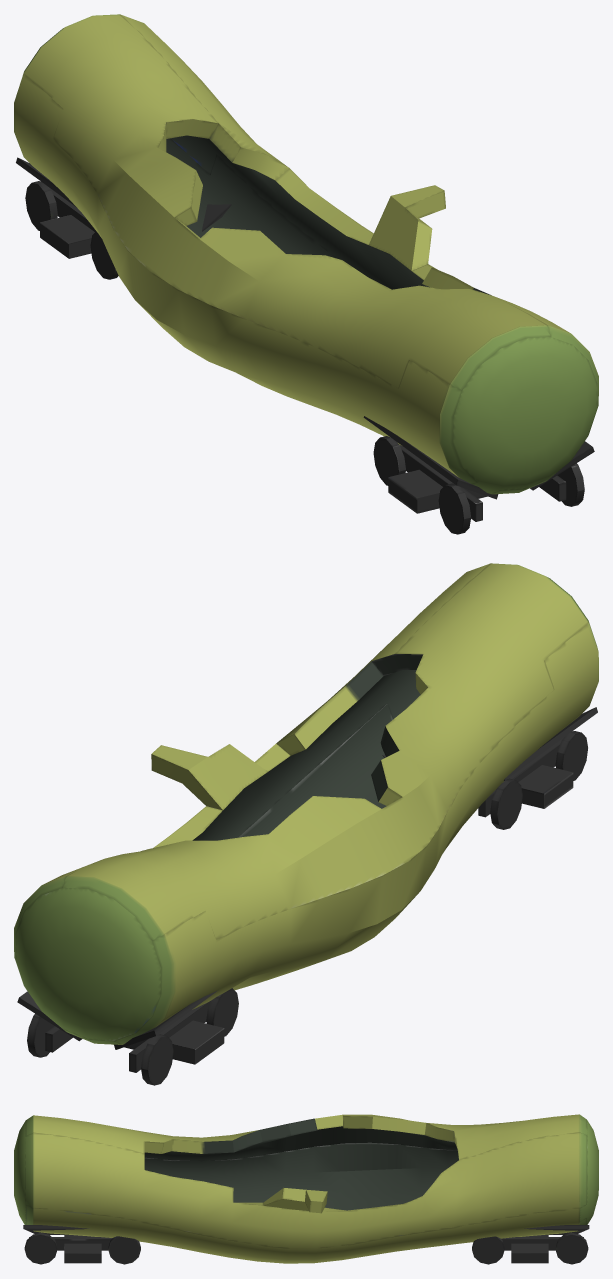
The model's file is cylinder-exploded.fbx.
The picture shows the model from 3 angles, top to bottom: view 1: azimuth 30°, elevation 25°; view 2: azimuth 150°, elevation 25°; view 3: azimuth 270°, elevation 25°; orthographic projection. The views are drawn at different scales.
Visible parts, largest first — view 1: wagon-cylinder-exploded; view 2: wagon-cylinder-exploded; view 3: wagon-cylinder-exploded.
Part boxes in pixels (box(x1,y1,x2,y2)): wagon-cylinder-exploded: box(14, 14, 598, 534); wagon-cylinder-exploded: box(14, 563, 598, 1085); wagon-cylinder-exploded: box(14, 1114, 598, 1264).
Size of the model in its own units: 135 by 97.16 by 391.
